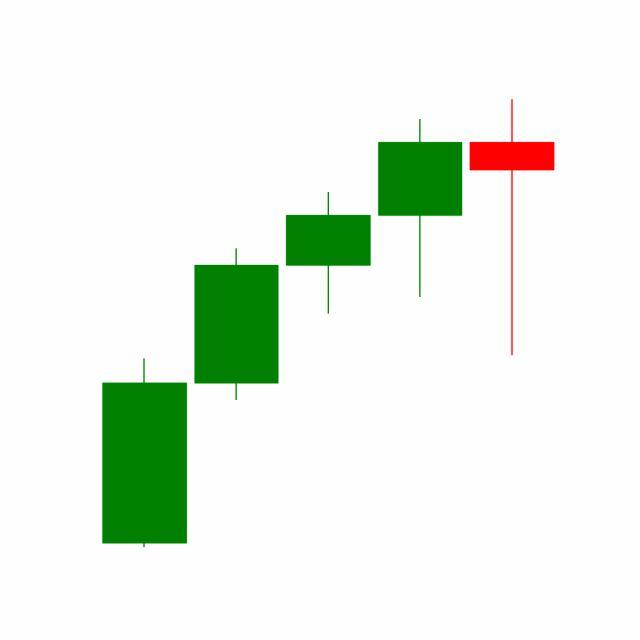Spinning Top: (466, 97, 559, 359)
